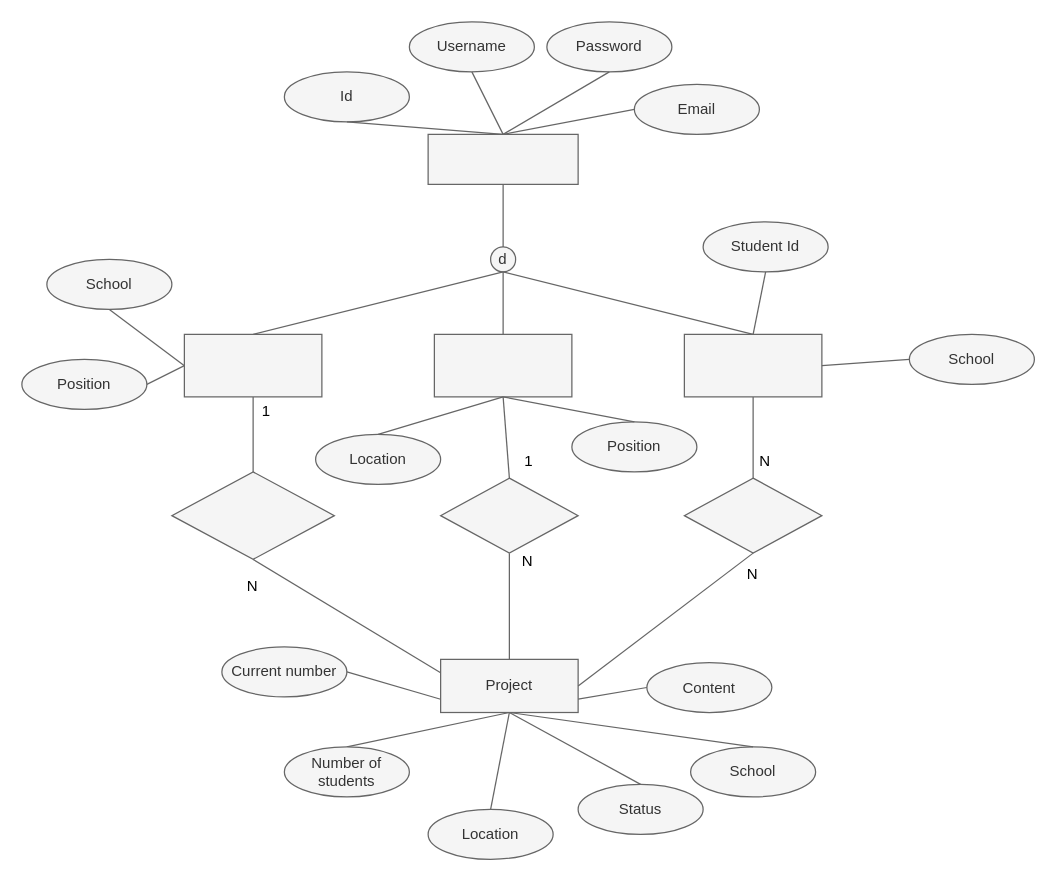
Some shapes in this 1056 by 881 pixel diagram are drawn without their labels. The centre of each missing label's shape, as x and y in pixels:
"Account" belongs at [502,158].
"Apply" belongs at [752,515].
"Community Leaders" belongs at [502,365].
"Create" belongs at [508,515].
"Students" belongs at [752,365].
"University administrator" belongs at [252,365].
"Verify" belongs at [252,515].
